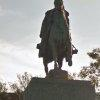Statue: (31, 3, 81, 73)
